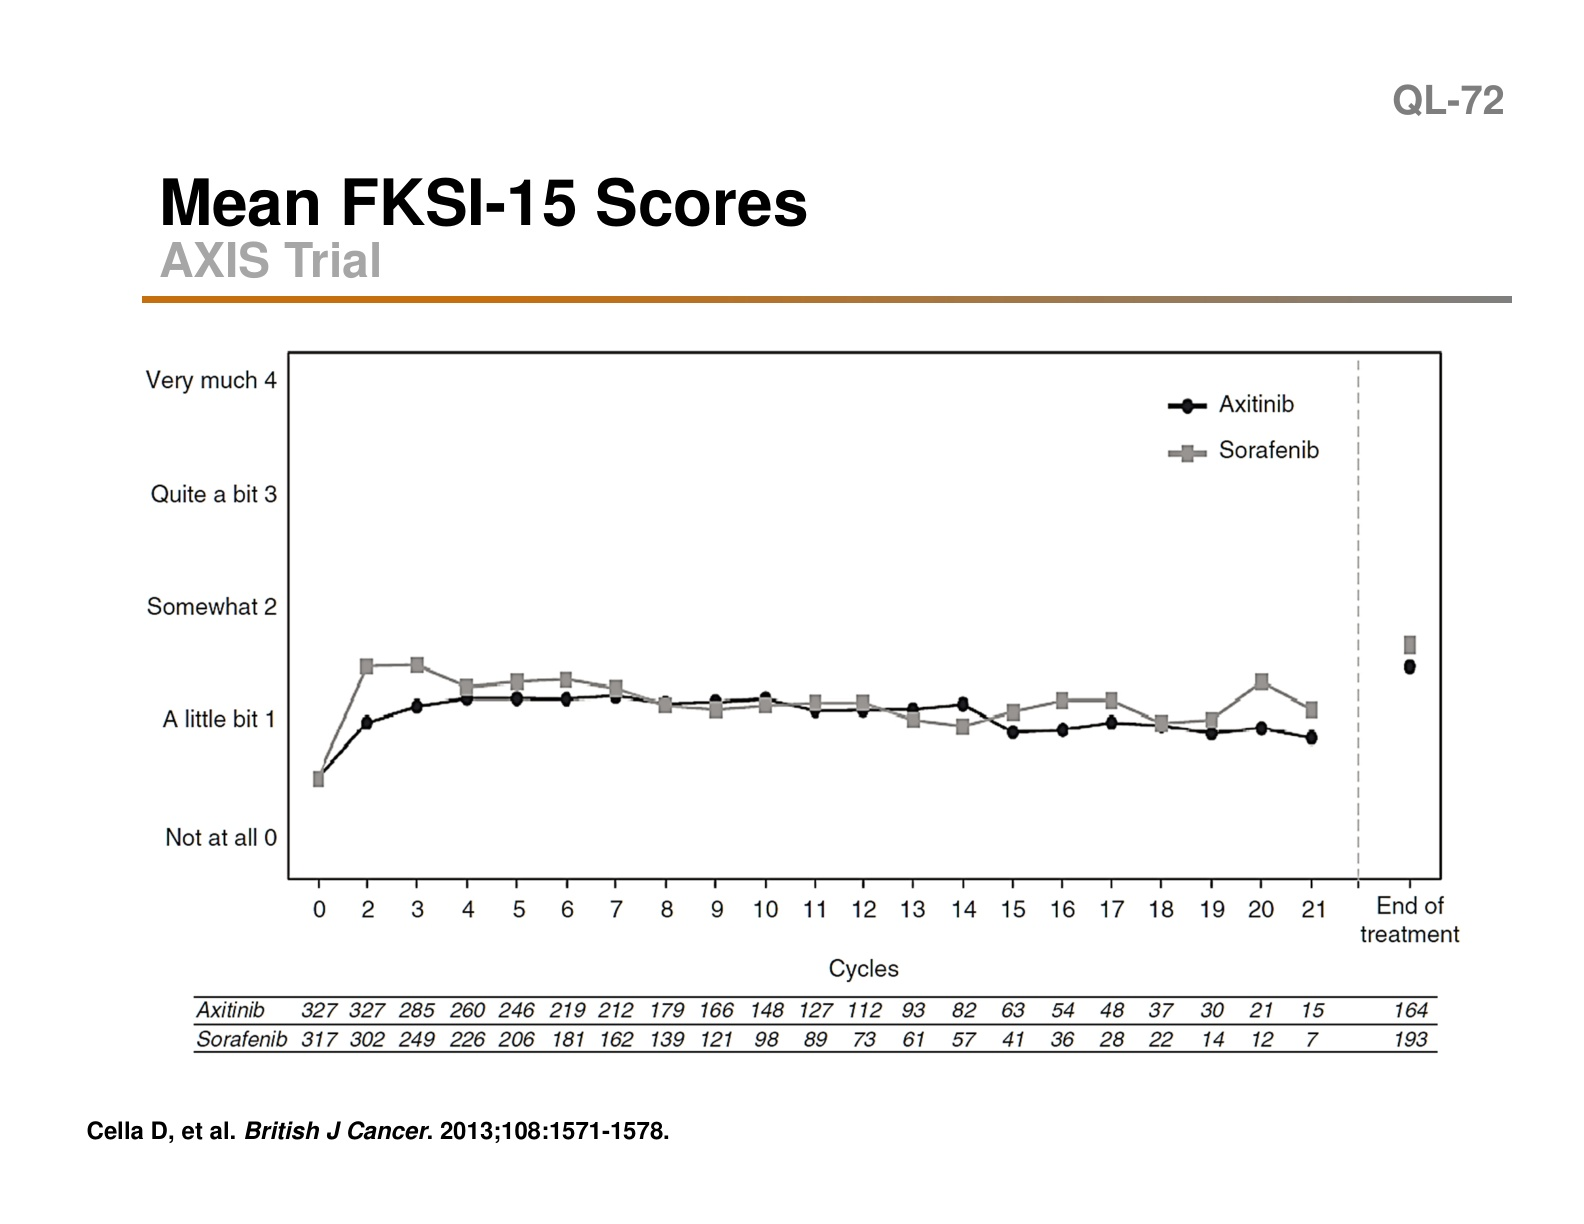partial_lined: (193, 994, 1440, 1054)
